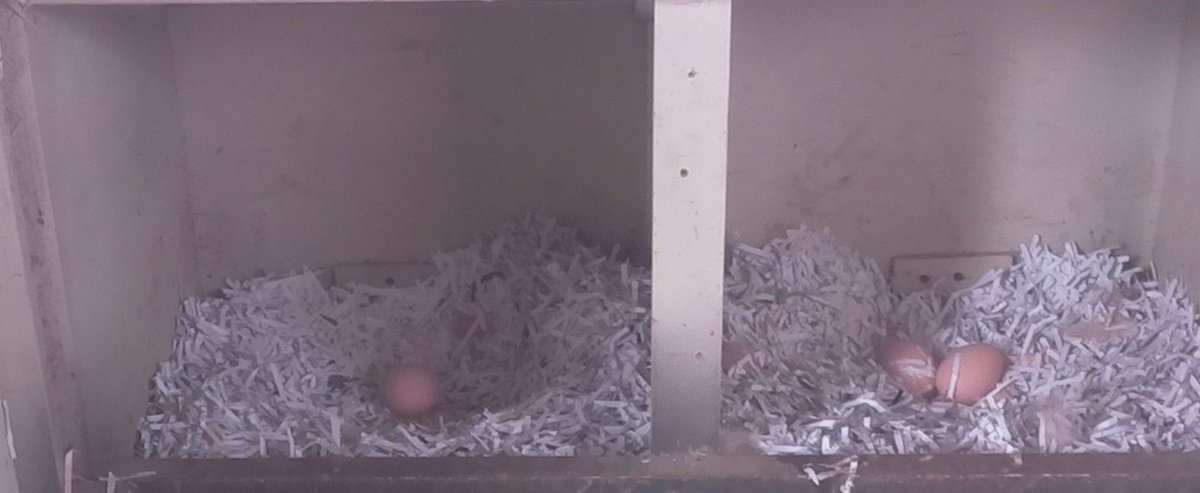egg: (933, 342, 1009, 406), (378, 358, 452, 422), (877, 336, 940, 411)
